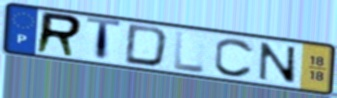C: (212, 36, 256, 79)
D: (122, 22, 171, 68)
L: (173, 29, 207, 75)
N: (258, 40, 299, 86)
R: (33, 10, 85, 59)
T: (84, 16, 123, 65)
